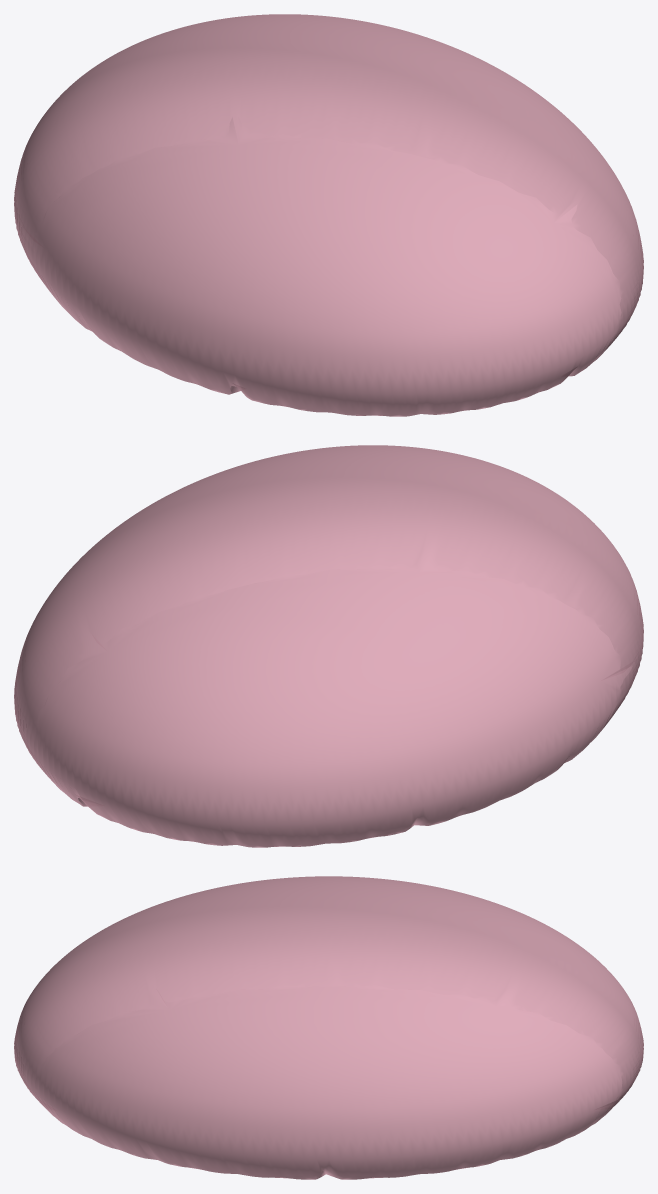
Rendered from jewelry.glb.
3 views of the same model, one above another, from view 1: azimuth 30°, elevation 25°; view 2: azimuth 150°, elevation 25°; view 3: azimuth 270°, elevation 25° (orthographic). The views are drawn at different scales.
Visible parts, largest first — view 1: Gemstone Rose Quartz; view 2: Gemstone Rose Quartz; view 3: Gemstone Rose Quartz.
Part boxes in pixels (<box>): Gemstone Rose Quartz: <box>14,14,643,416</box>; Gemstone Rose Quartz: <box>14,445,643,847</box>; Gemstone Rose Quartz: <box>14,876,643,1179</box>.
Size of the model in its own units: 1.98 by 0.7697 by 2.53.
